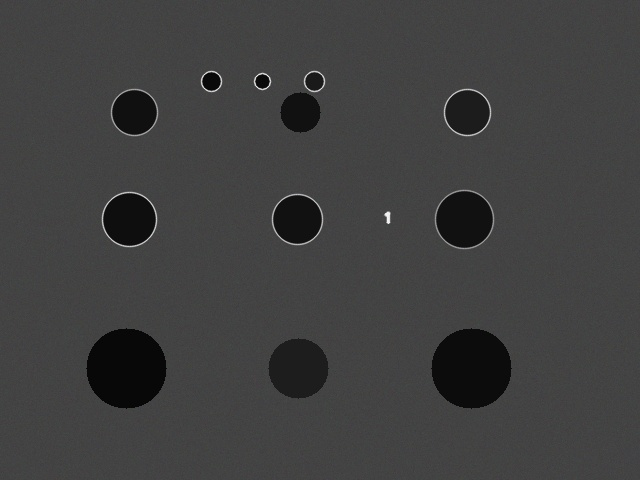hole: (86, 328, 166, 408), (431, 328, 511, 408), (268, 338, 328, 398), (435, 190, 493, 248), (102, 192, 156, 246), (272, 194, 322, 244), (111, 89, 157, 135), (444, 89, 490, 135), (280, 92, 320, 132), (201, 71, 221, 91), (304, 71, 324, 91), (254, 73, 270, 89)
